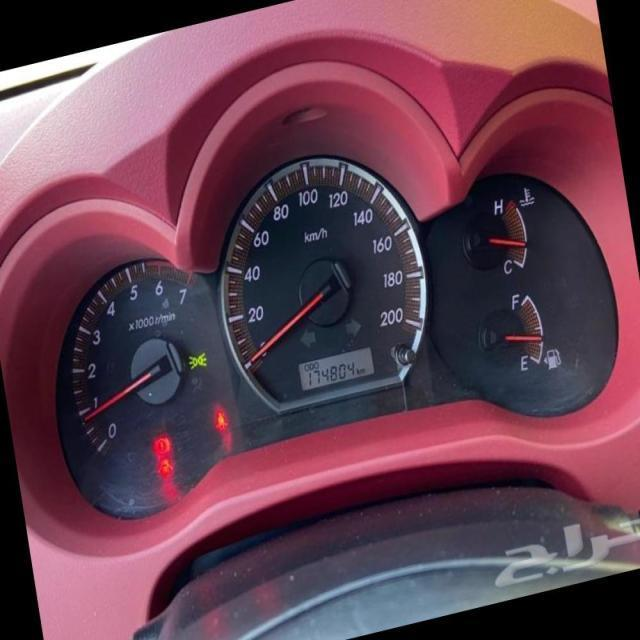Seat Belt: (214, 410, 226, 432)
